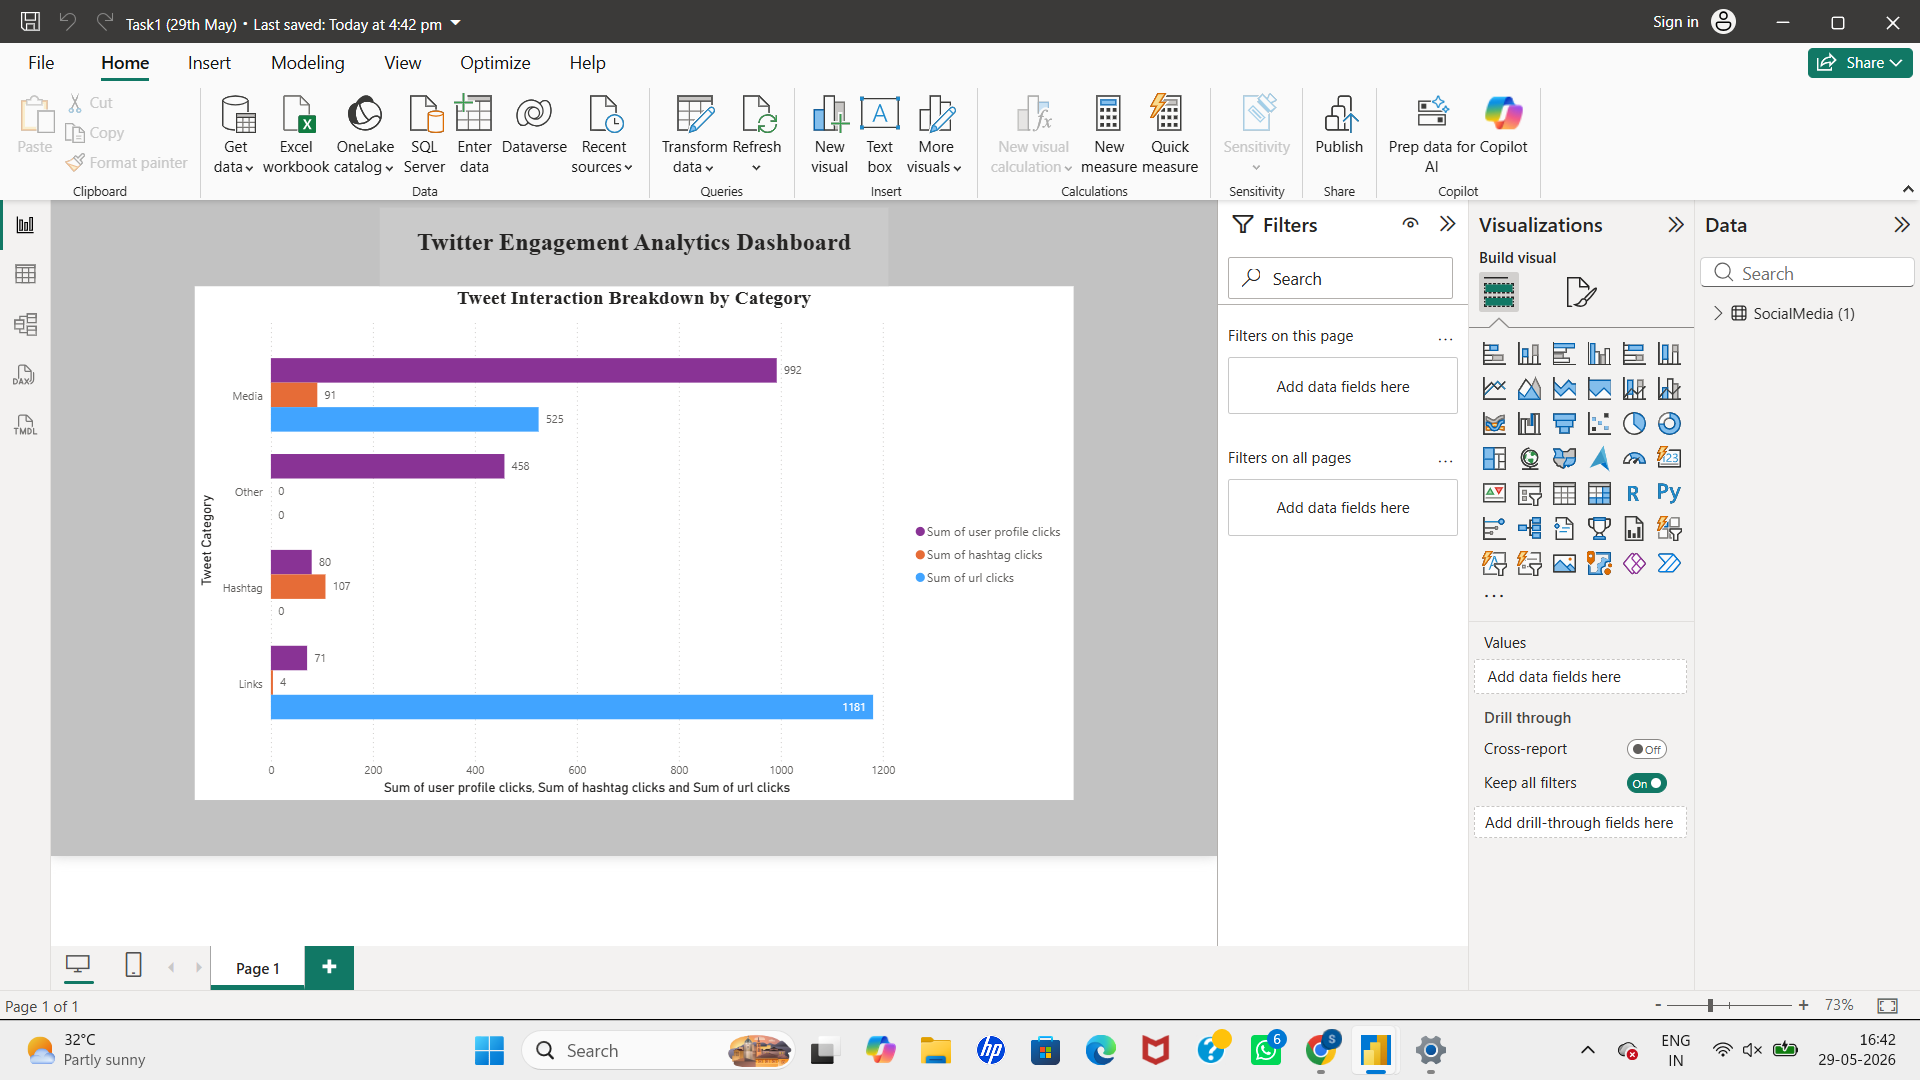

Layout of this report page (visuals, bound fields, positions):
{"tool":"powerbi","page":{"name":"Page 1","canvas":[1280,720],"ordinal":0},"visuals":[{"type":"clusteredBarChart","title":"Tweet Interaction Breakdown by Category","fields":{"Category":["SocialMedia (1).Tweet Category"],"Y":["Sum(SocialMedia (1).user profile clicks)","Sum(SocialMedia (1).hashtag clicks)","Sum(SocialMedia (1).url clicks)"]},"box":[157.8,94.7,964.7,564],"z":0},{"type":"textbox","box":[360.9,8.2,558.5,86.4],"z":1000}]}

Visuals, with their boxes on the page's 1280x720 design canvas (x1, y1, x2, y2). These are canvas units, not pixel positions in the 1920x1080 screenshot, which may show the page scaled, cropped or inside an application window:
"Tweet Interaction Breakdown by Category" clusteredBarChart: (left=158, top=95, right=1122, bottom=659)
textbox: (left=361, top=8, right=919, bottom=95)
